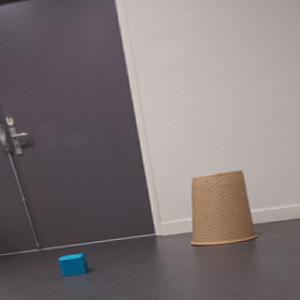medium: (189, 172, 258, 244)
small: (58, 254, 89, 276)
